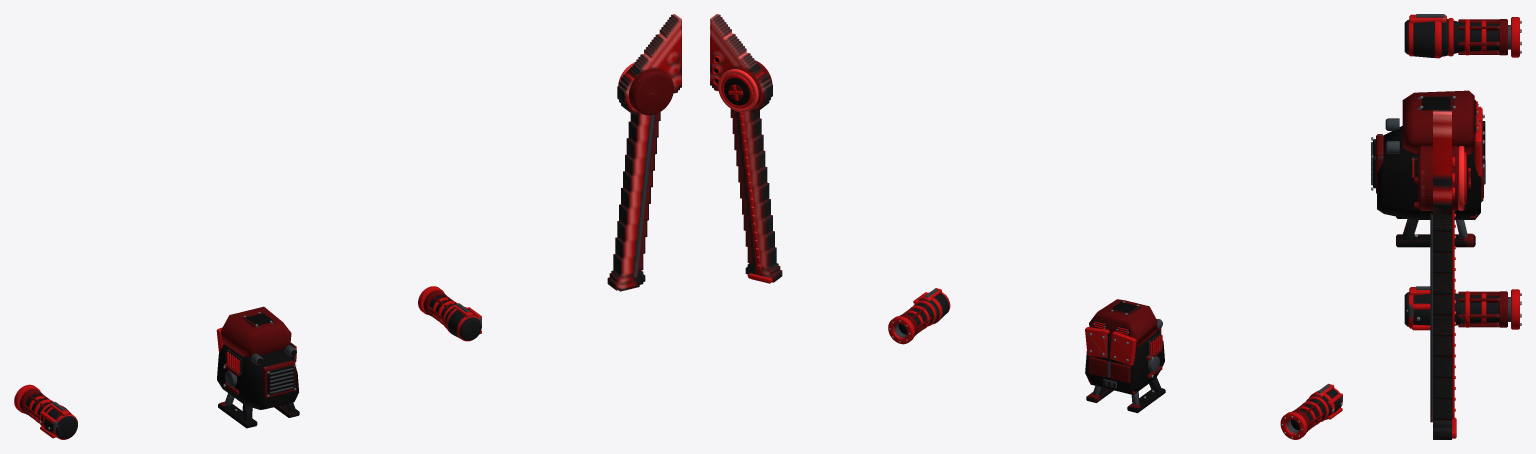
File: boss-walker.glb
The picture shows the model from 3 angles, left to right: view 1: azimuth 30°, elevation 25°; view 2: azimuth 150°, elevation 25°; view 3: azimuth 270°, elevation 25°; orthographic projection. The views are drawn at different scales.
Parts seen in each view (by area): view 1: IntroLeg12, GuardianChassis, GuardianRightCannon, GuardianLeftCannon; view 2: IntroLeg12, GuardianChassis, GuardianLeftCannon, GuardianRightCannon; view 3: GuardianChassis, IntroLeg12, GuardianLeftCannon, GuardianRightCannon.
Part boxes in pixels (x1,y1,x2,y2): IntroLeg12: [607, 14, 681, 291]; GuardianChassis: [216, 306, 299, 428]; GuardianRightCannon: [418, 286, 481, 341]; GuardianLeftCannon: [14, 384, 77, 439]; IntroLeg12: [710, 14, 782, 283]; GuardianChassis: [1085, 299, 1165, 413]; GuardianLeftCannon: [1280, 383, 1342, 439]; GuardianRightCannon: [888, 288, 950, 344]; GuardianChassis: [1371, 90, 1485, 247]; IntroLeg12: [1418, 110, 1470, 439]; GuardianLeftCannon: [1404, 14, 1521, 58]; GuardianRightCannon: [1404, 286, 1521, 330].
Bounding box in the file's own units: 16.91 × 7.36 × 2.5.
Materials: 1 (1 with a texture image).
